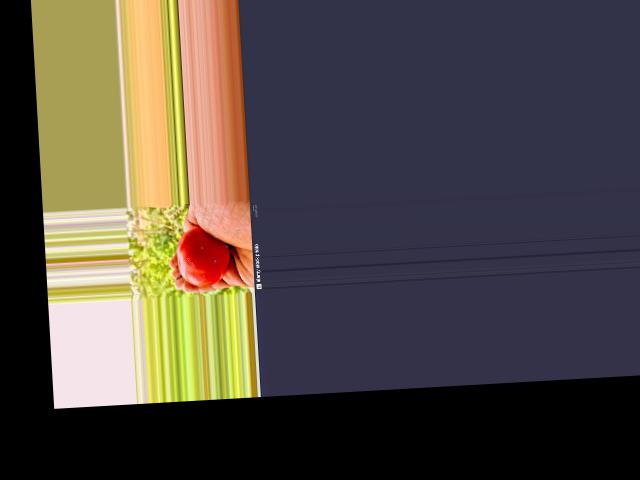tomato: (176, 226, 231, 287)
